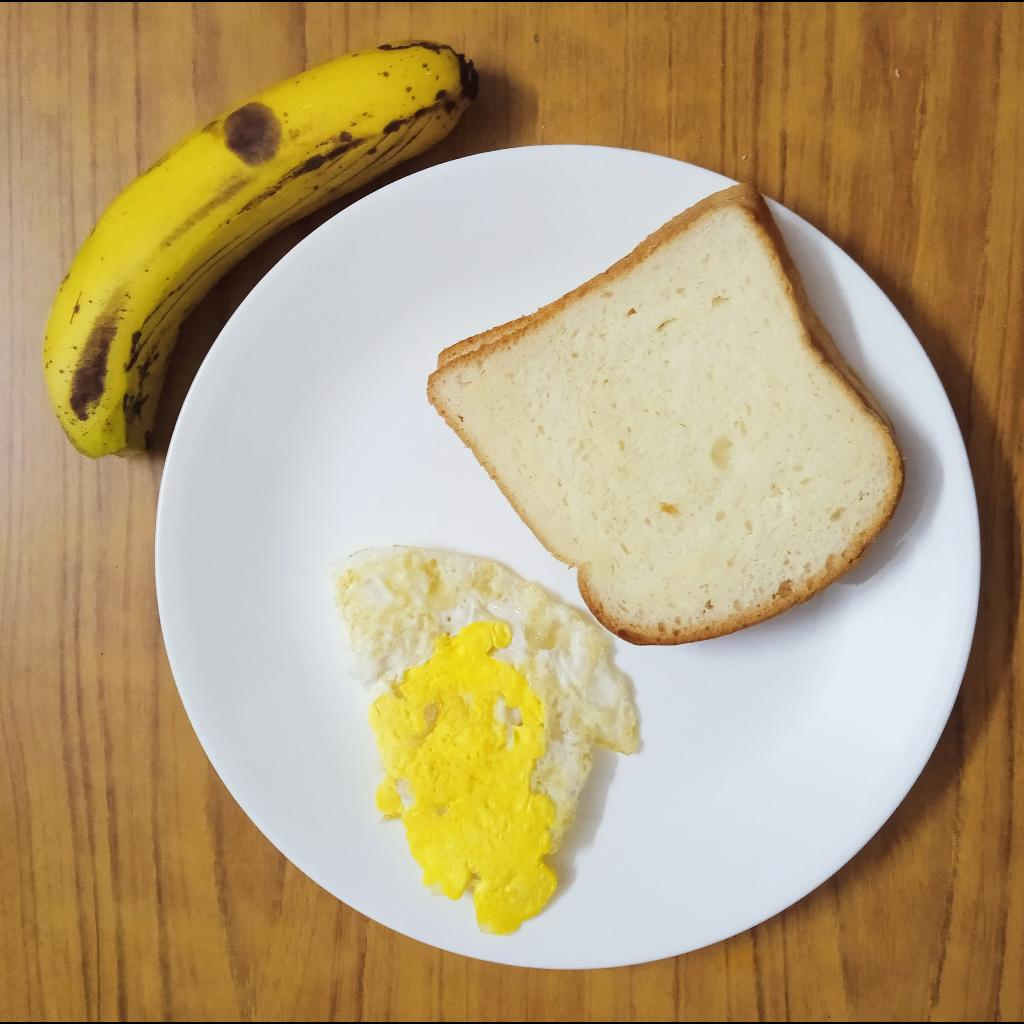banana: (36, 41, 475, 465)
bread: (428, 184, 904, 649)
egg-poached: (331, 542, 642, 935)
